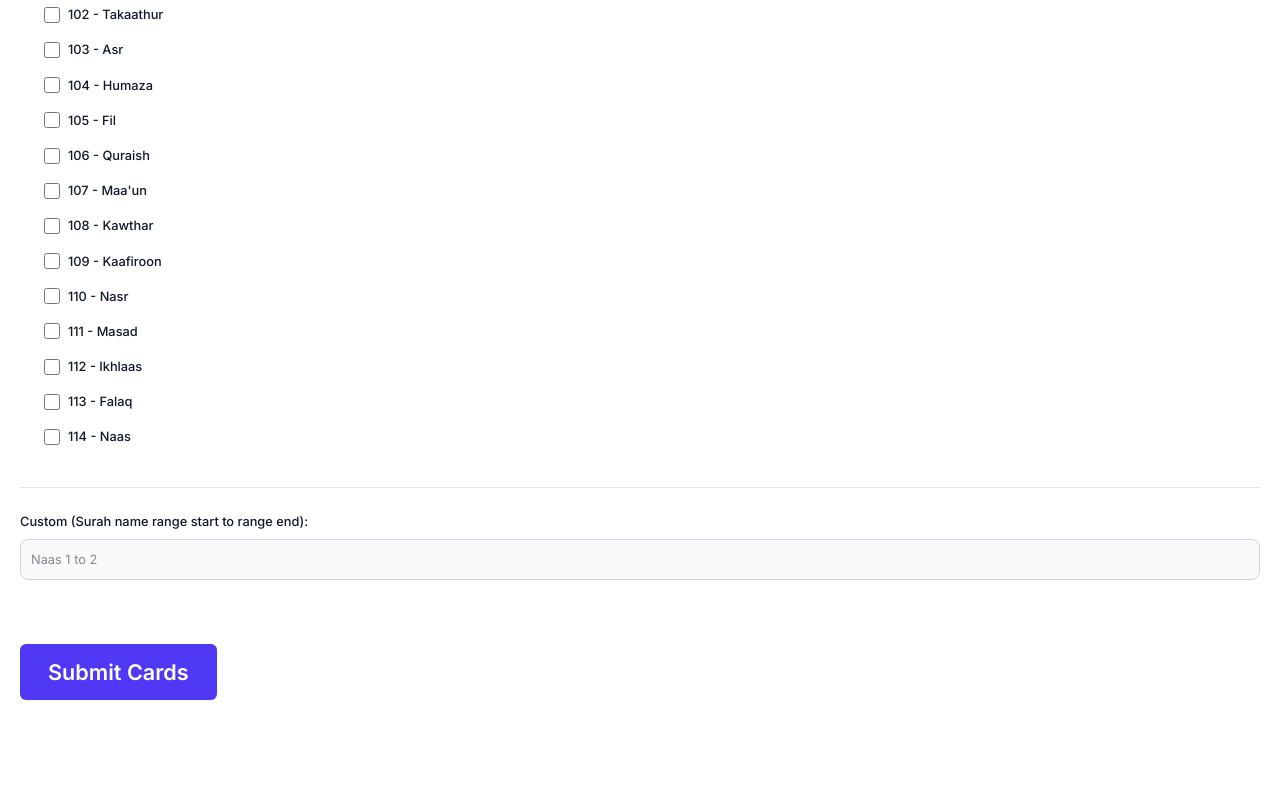
Add Quran card form › Display › should check/uncheck checkboxes as expected
(page scrolled)
Click the checkbox with test id "quran-checkbox-input" at (52, 437), box [44, 429, 60, 445]
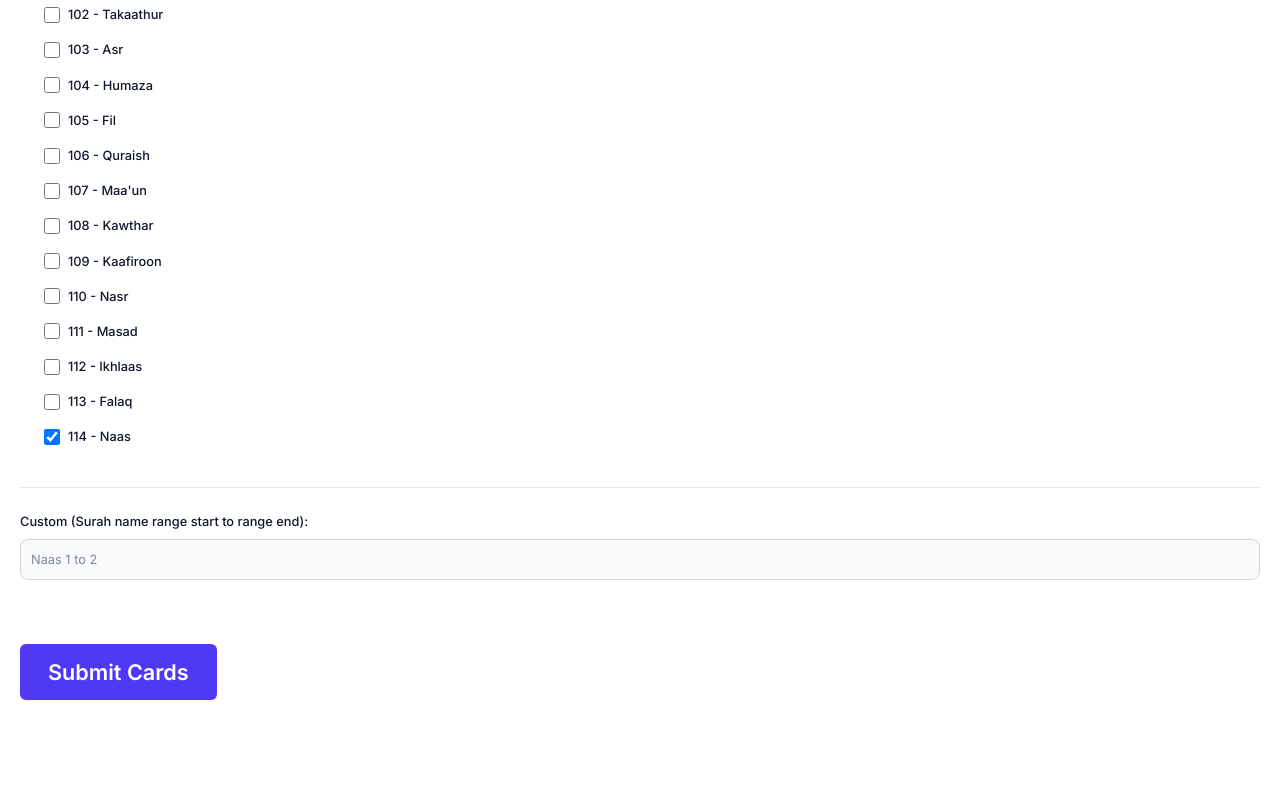
Result: the checkbox with test id "quran-checkbox-input" is checked
Click the checkbox with test id "quran-checkbox-input" at (52, 437), box [44, 429, 60, 445]
(page scrolled)
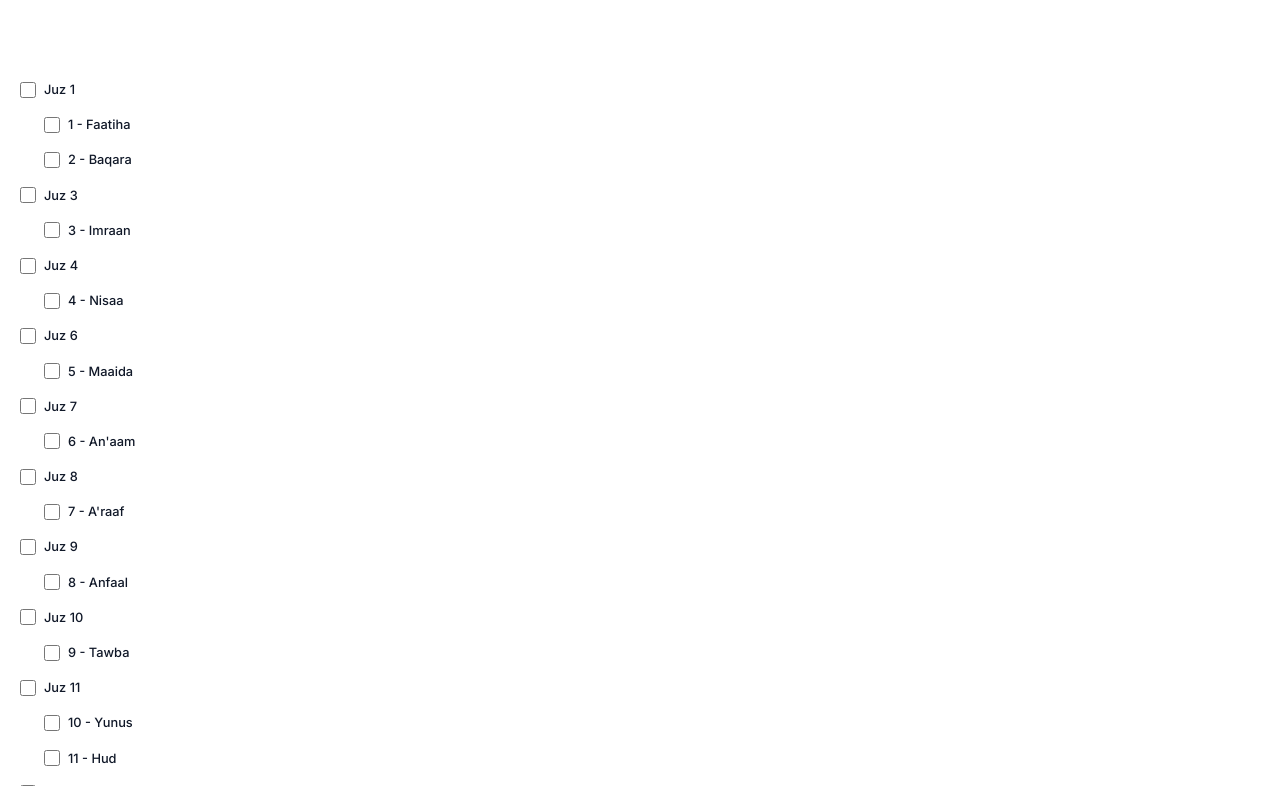
Click the checkbox with test id "quran-checkbox-input" at (28, 90), box [20, 82, 36, 98]
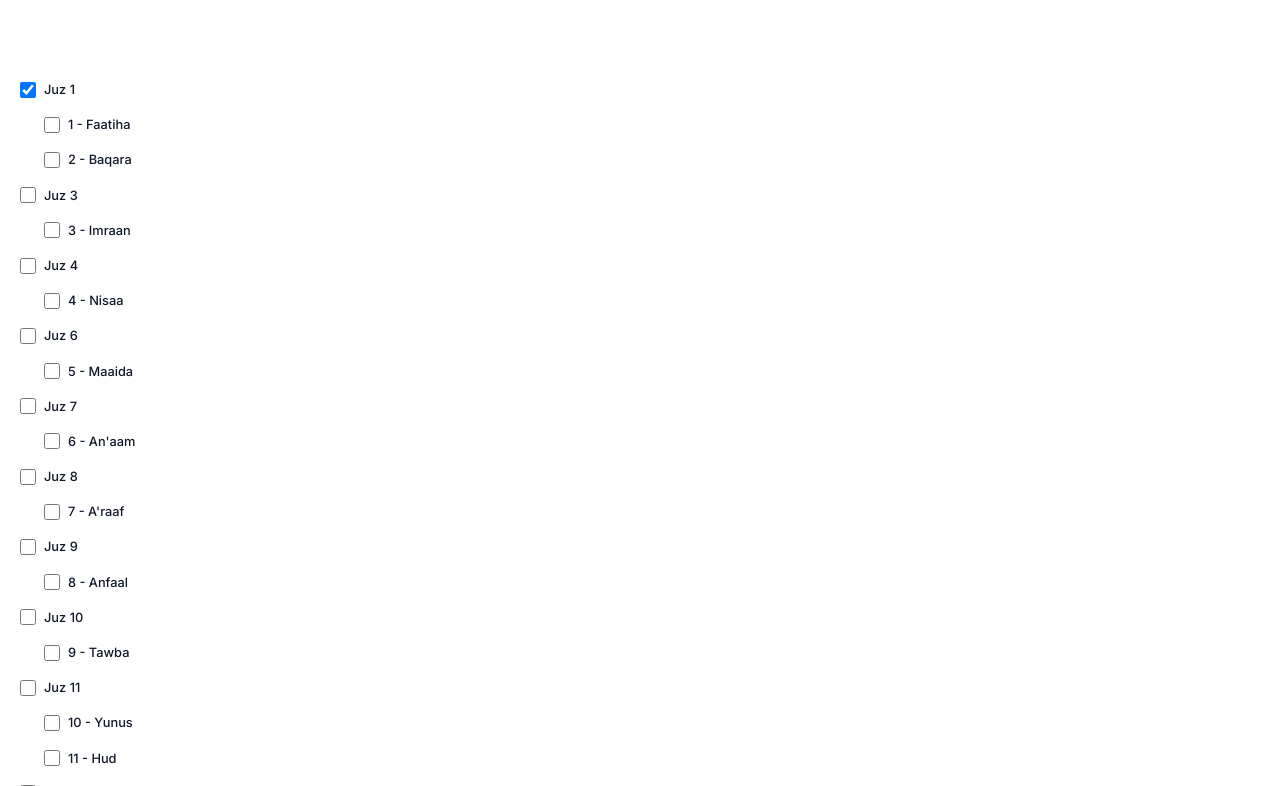
Result: the checkbox with test id "quran-checkbox-input" is checked at [20, 82, 36, 98]
